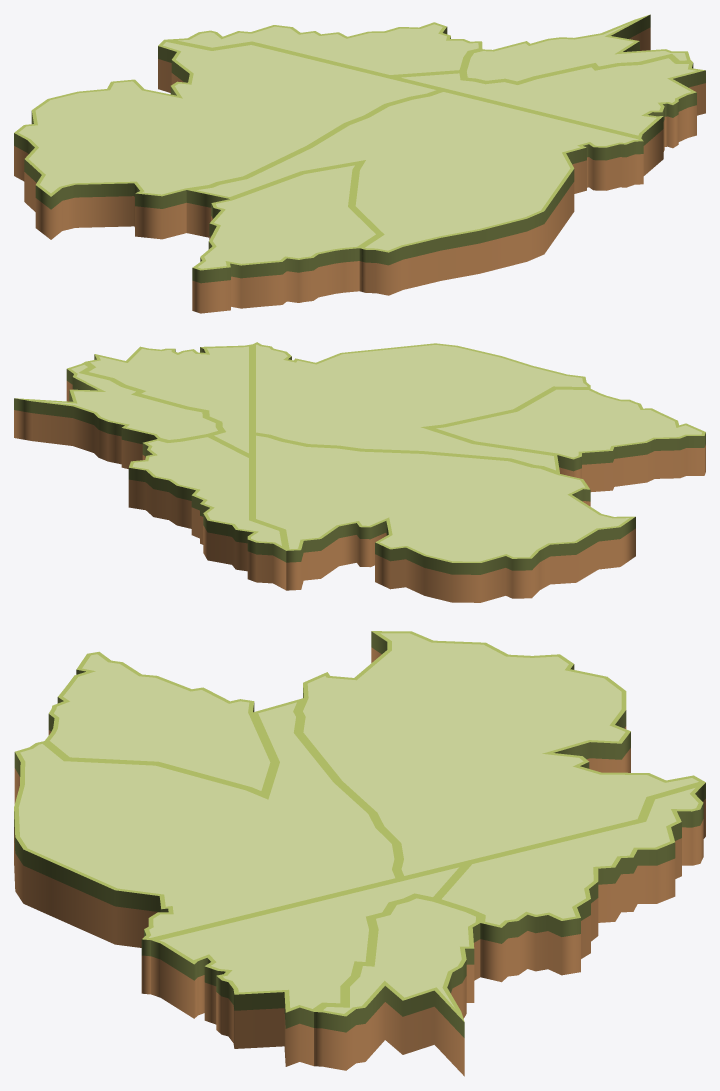
File: Island4.fbx
The picture shows the model from 3 angles, top to bottom: view 1: azimuth 30°, elevation 25°; view 2: azimuth 150°, elevation 25°; view 3: azimuth 270°, elevation 25°; orthographic projection. The views are drawn at different scales.
Parts seen in each view (by area): view 1: Island4.001, Island4.003, Island4.002, Island4.005, Island4.004, Island4.006; view 2: Island4.001, Island4.003, Island4.002, Island4.004, Island4.006, Island4.005; view 3: Island4.001, Island4.003, Island4.005, Island4.004, Island4.006, Island4.002.
Boxes of the visible parts, bbox=[...] form: Island4.001: bbox=[14, 39, 442, 239]; Island4.003: bbox=[186, 90, 643, 295]; Island4.002: bbox=[192, 162, 379, 313]; Island4.005: bbox=[390, 56, 705, 175]; Island4.004: bbox=[165, 22, 482, 76]; Island4.006: bbox=[463, 14, 692, 83]; Island4.001: bbox=[252, 433, 635, 602]; Island4.003: bbox=[252, 342, 590, 473]; Island4.002: bbox=[428, 388, 705, 491]; Island4.004: bbox=[128, 435, 286, 590]; Island4.006: bbox=[14, 362, 221, 468]; Island4.005: bbox=[84, 344, 252, 457]; Island4.001: bbox=[298, 631, 705, 878]; Island4.003: bbox=[14, 698, 400, 994]; Island4.005: bbox=[151, 863, 467, 1066]; Island4.004: bbox=[436, 782, 705, 982]; Island4.006: bbox=[314, 896, 480, 1076]; Island4.002: bbox=[45, 651, 274, 795].
Bounding box in the file's own units: 387 × 25 × 289.
